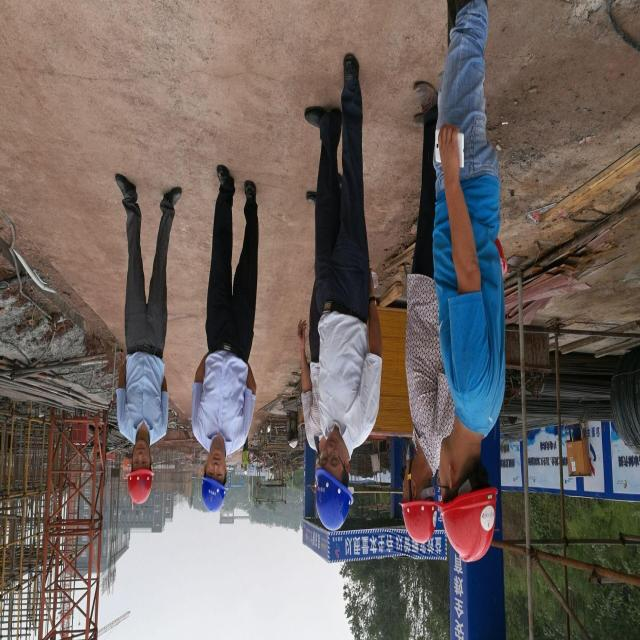helmet: (440, 482, 502, 568), (304, 462, 358, 532), (394, 490, 440, 550), (122, 459, 160, 508), (195, 473, 236, 513)
